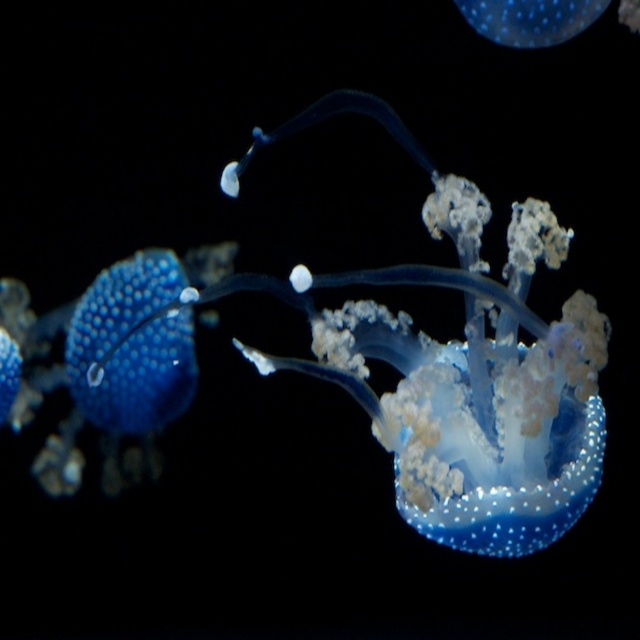Jellyfish: (0, 0, 640, 558), (455, 1, 640, 51)
